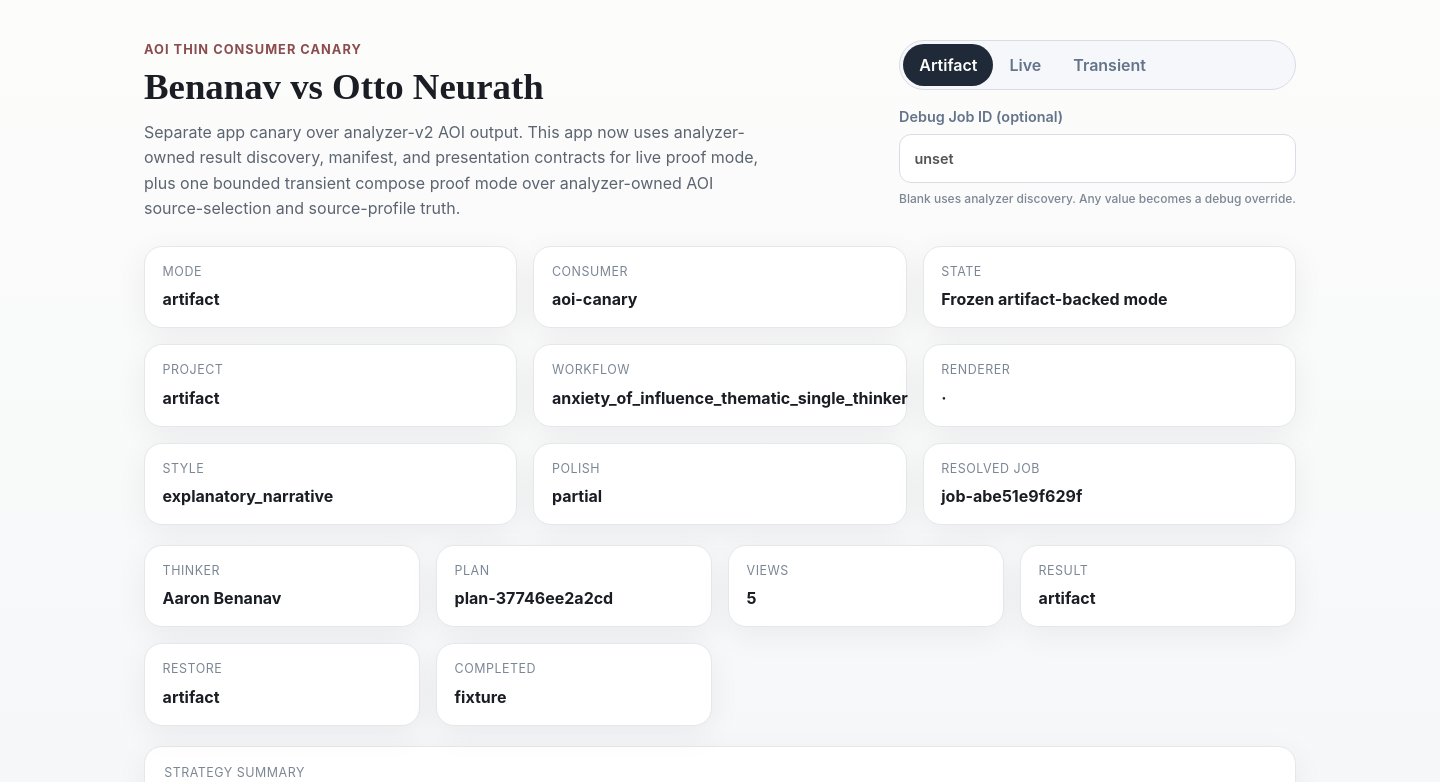
Test case: AOI canary app › shows an explicit transient error state when compose fails
This screenshot has width=1440, height=782.
Click the button "Transient" at (1110, 65), box [1057,44,1162,86]
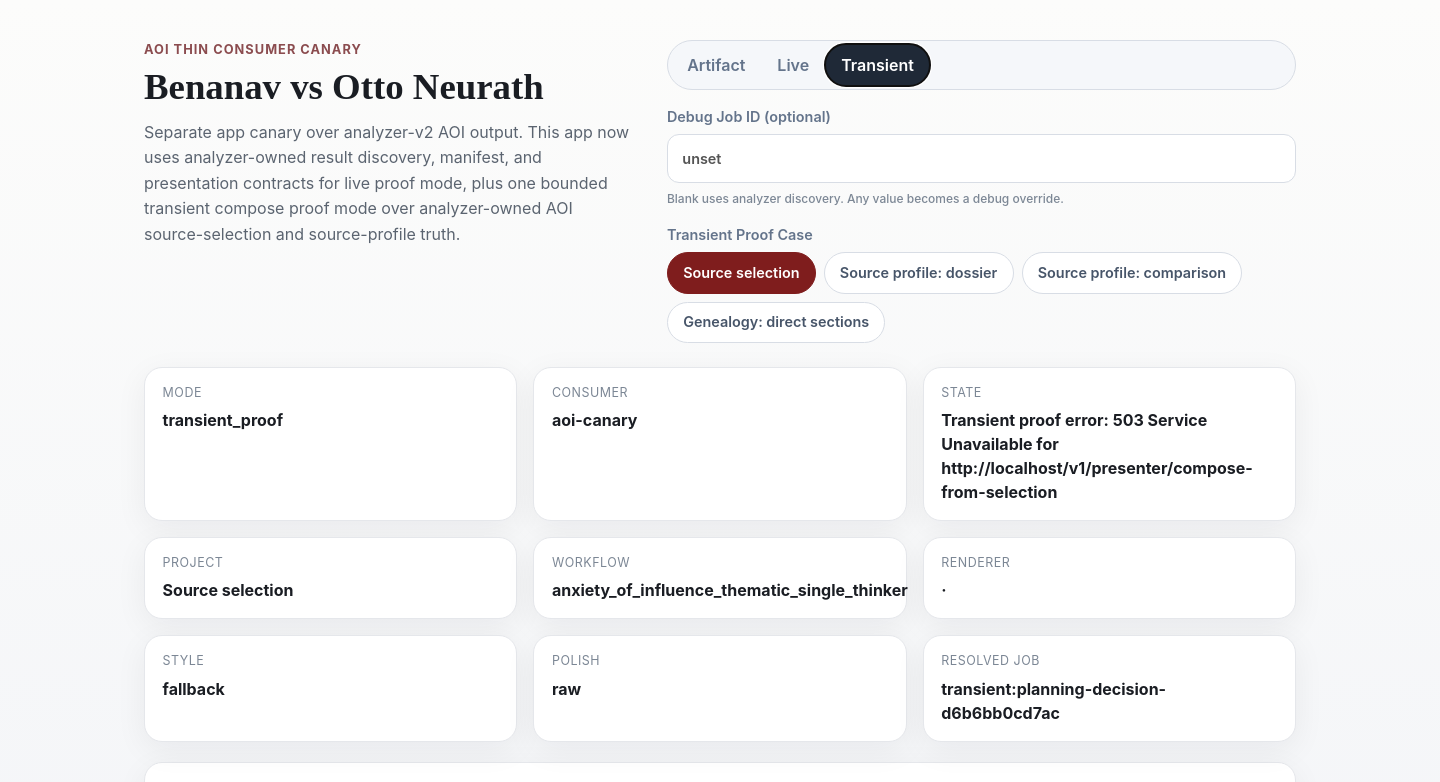
Expected: the text "503 Service Unavailable" is shown, [941,410,1253,502]
